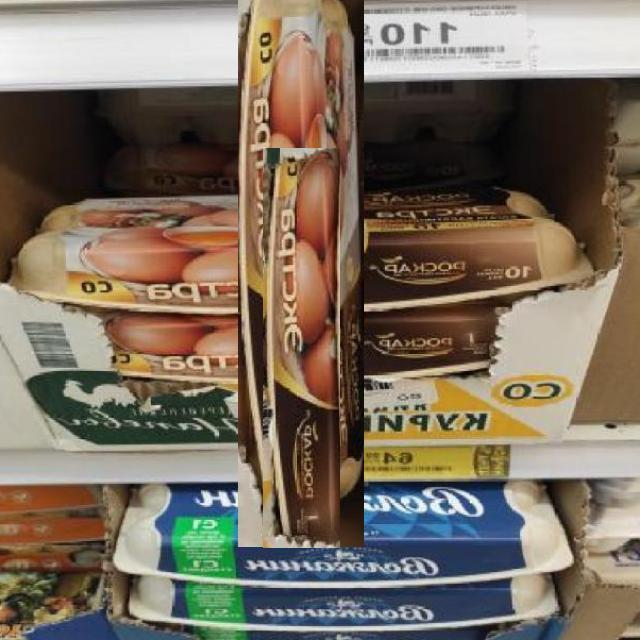Egg: (238, 0, 364, 547), (263, 149, 340, 548), (275, 0, 329, 368)
